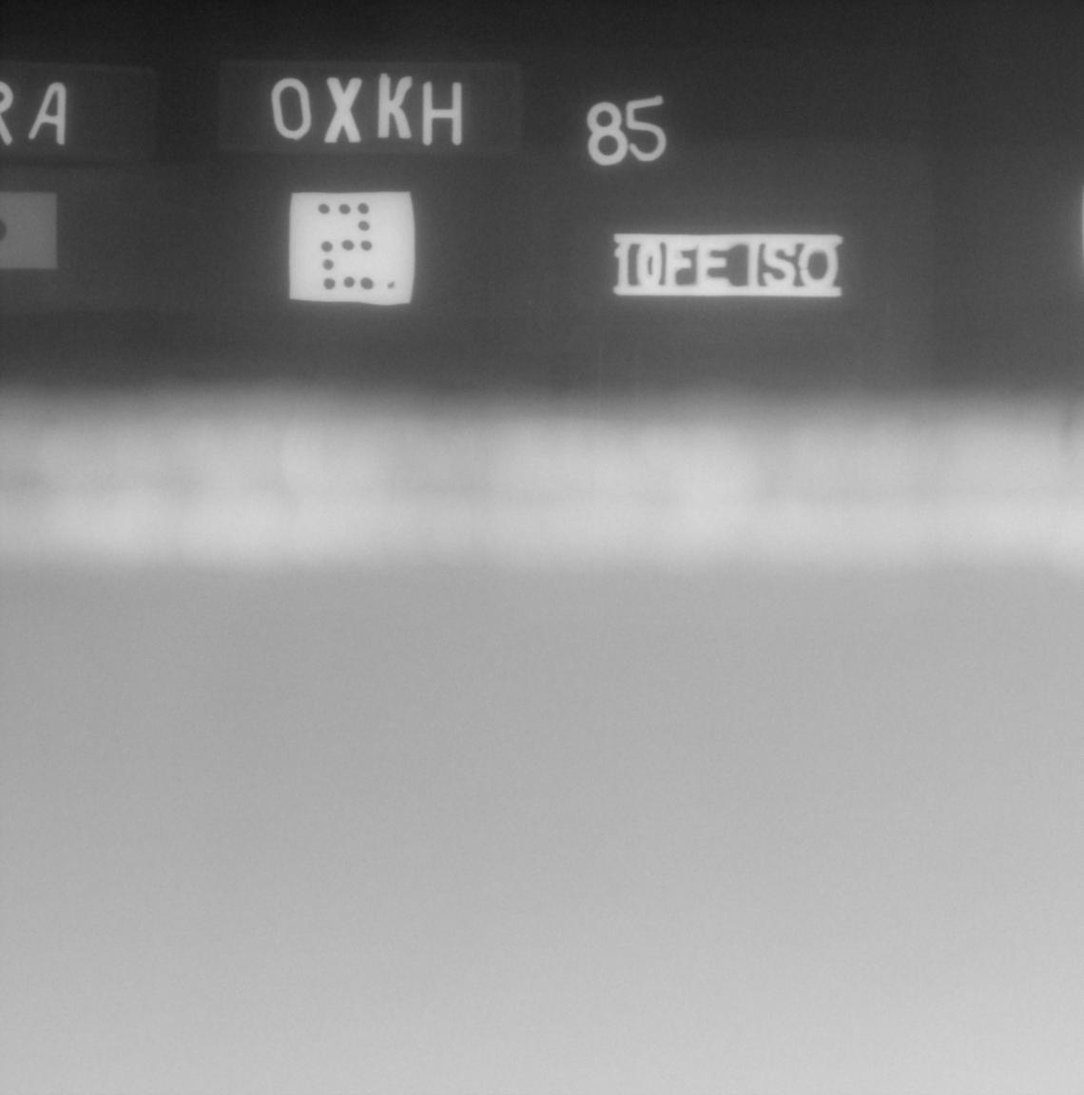Pore/Porosity: (103, 501, 116, 510)
Undercut: (192, 571, 227, 580)
